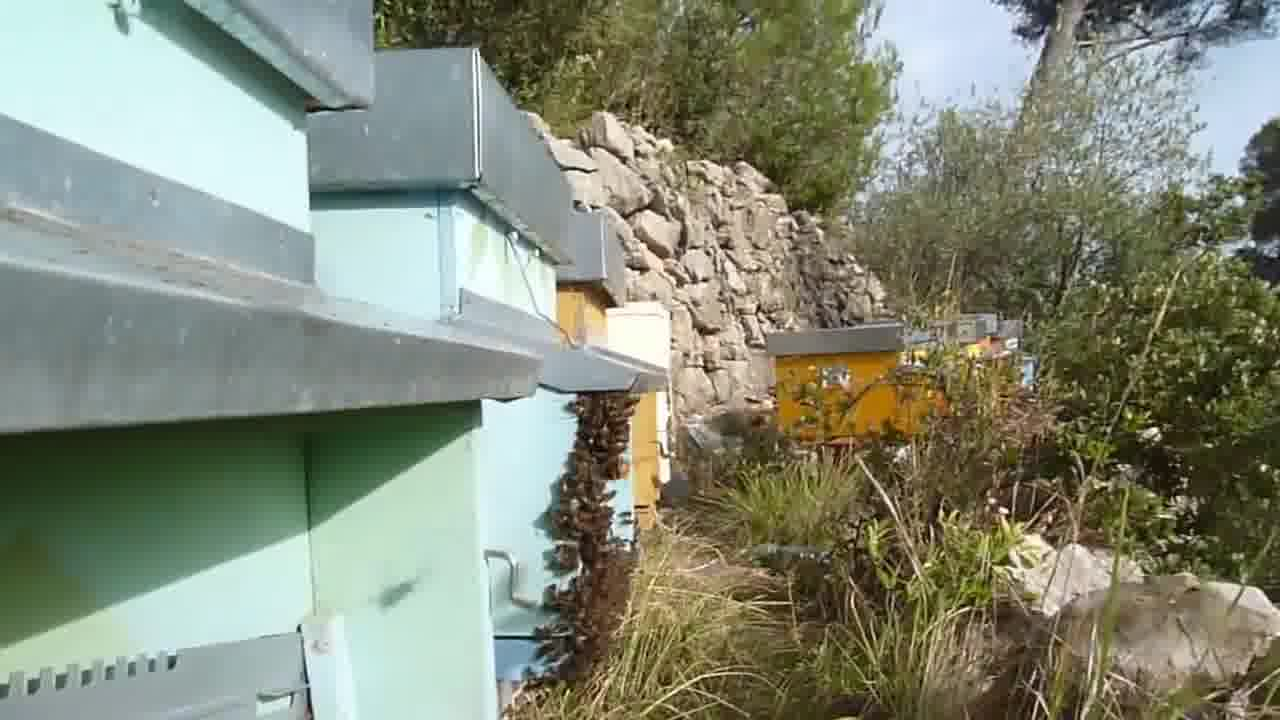bee: (536, 560, 617, 663), (567, 388, 634, 484), (545, 475, 620, 555)
